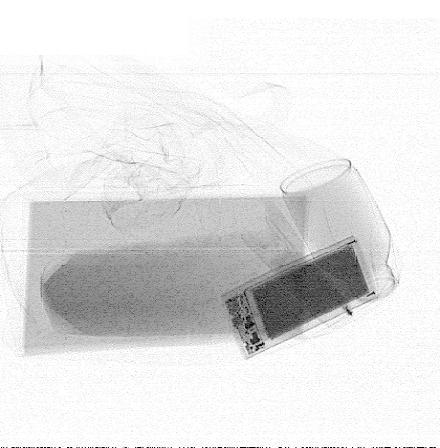Powerbank: (221, 235, 379, 361)
